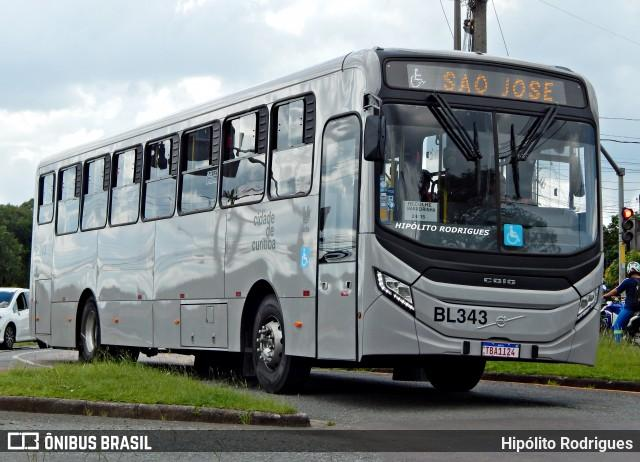SAO JOSE: (439, 66, 557, 105)
